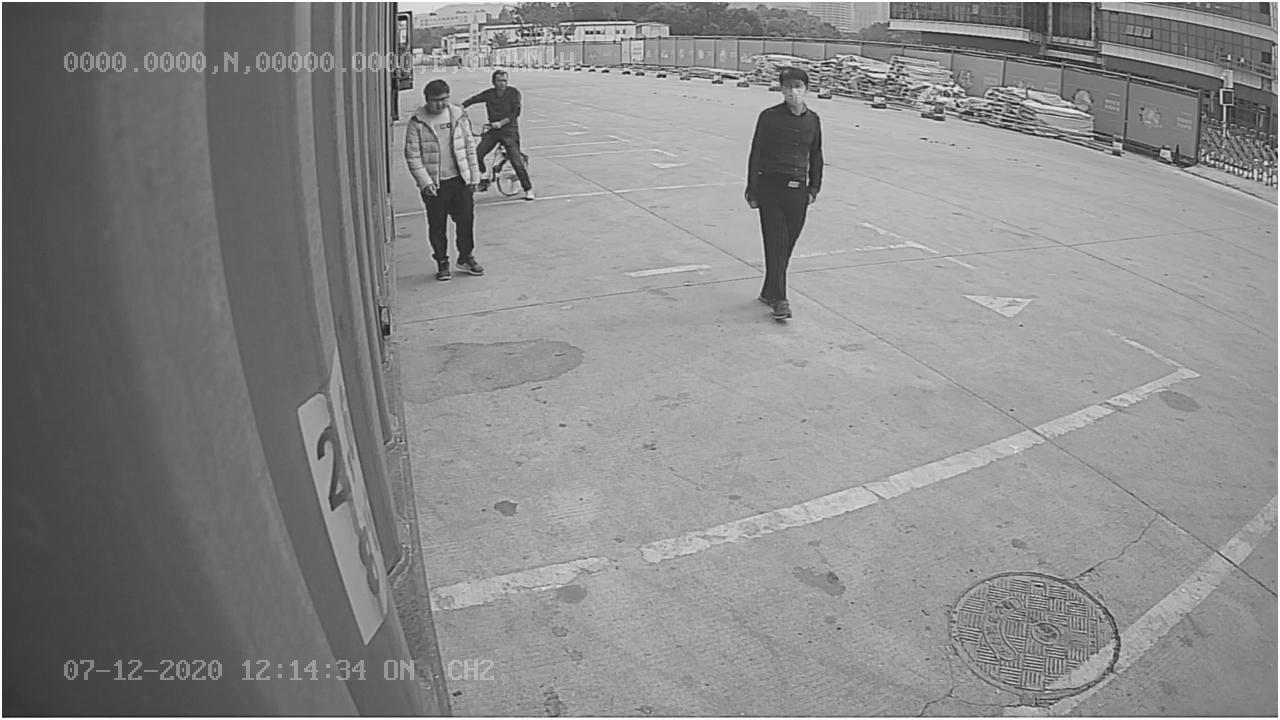person: (746, 64, 830, 322)
